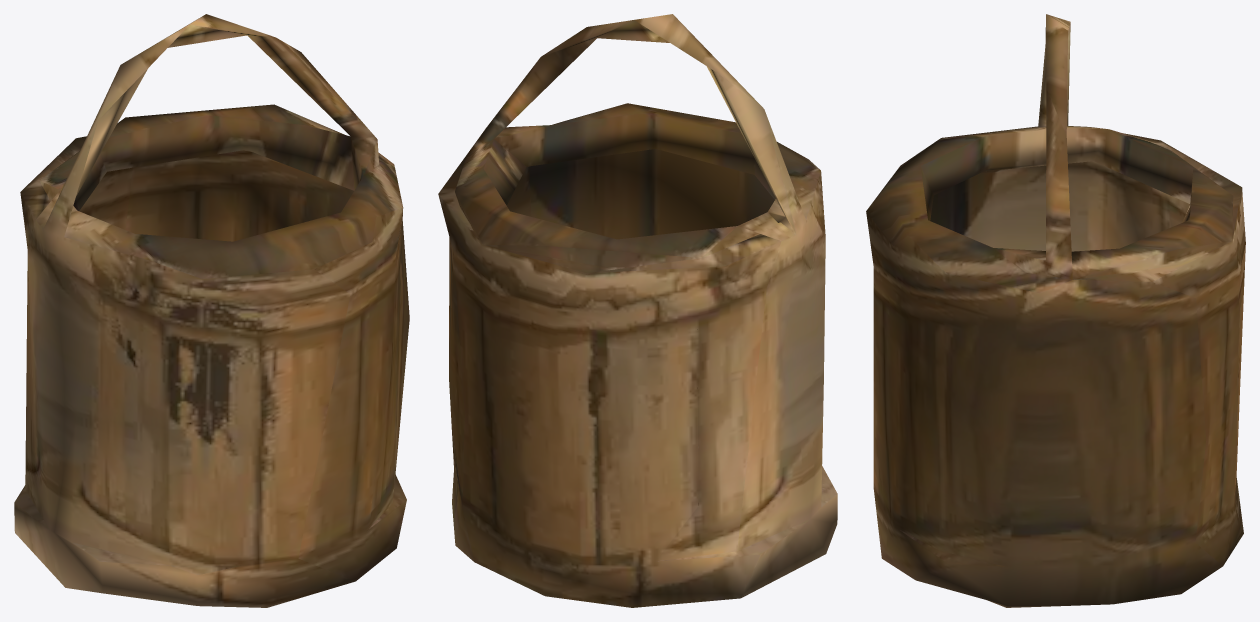
Rendered from toad-prop-bucket.glb.
The picture shows the model from 3 angles, left to right: view 1: azimuth 30°, elevation 25°; view 2: azimuth 150°, elevation 25°; view 3: azimuth 270°, elevation 25°; orthographic projection. The views are drawn at different scales.
Visible parts, largest first — view 1: world; view 2: world; view 3: world.
Part boxes in pixels (x1,y1,x2,y2): world: [14, 14, 409, 607]; world: [438, 14, 837, 607]; world: [866, 14, 1245, 607].
Bounding box in the file's own units: 0.024 × 0.035 × 0.0237.
Materials: 1 (1 with a texture image).
